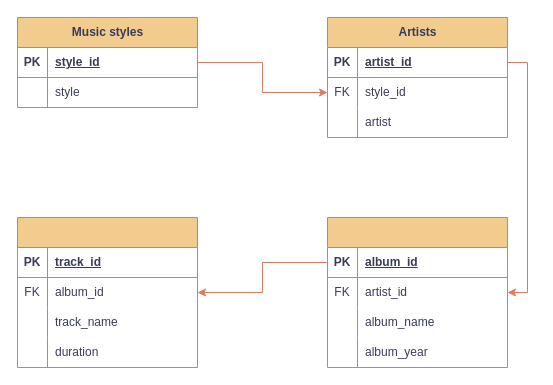
Some shapes in this 553 by 385 pixel diagram are drawn without their labels. The shapes that lost their labels are listed below. From the top down, each one's box as (x1, y1, x2, y2) in pixels, then its label:
(16, 216, 198, 368): Tracks
(326, 216, 508, 368): Albums
